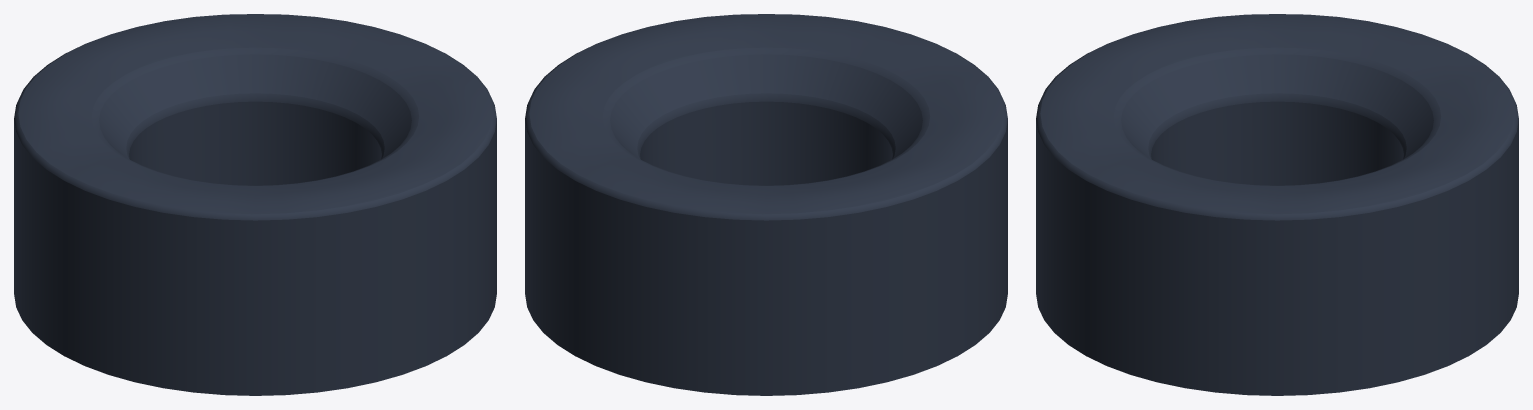
Rendered from hole.glb.
3 renders of one model, left to right at view 1: azimuth 30°, elevation 25°; view 2: azimuth 150°, elevation 25°; view 3: azimuth 270°, elevation 25°, orthographic.
Visible parts, largest first — view 1: hole; view 2: hole; view 3: hole.
Part boxes in pixels (x1,y1,x2,y2): hole: [14, 14, 496, 395]; hole: [525, 14, 1007, 395]; hole: [1036, 14, 1518, 395].
Size of the model in its own units: 0.6 by 0.252 by 0.6.
